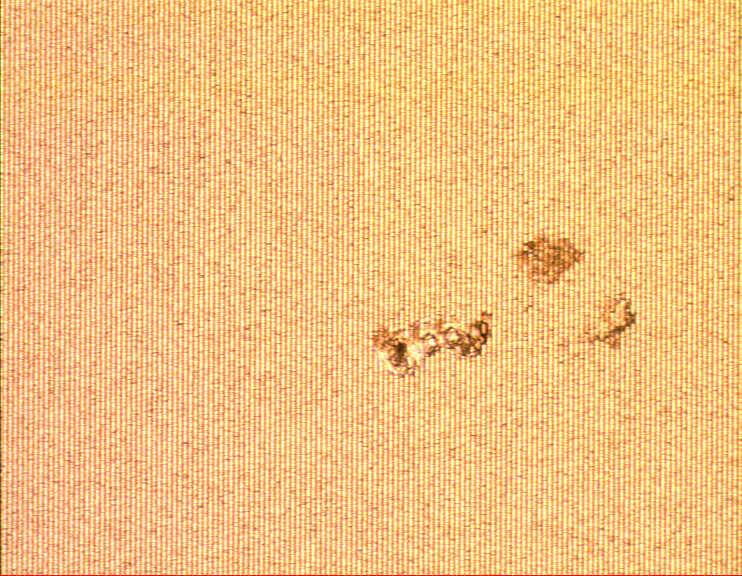SCRATCH: (364, 228, 644, 383)
